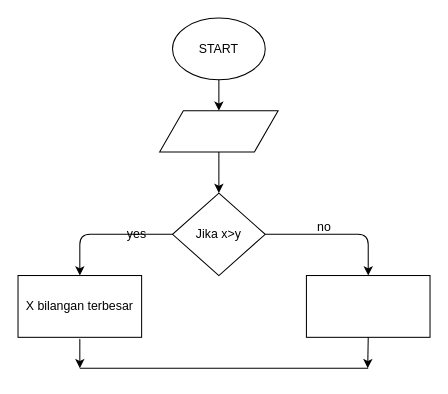
Image size: 448x394. Some labels were removed from this diagram. Here are the shapes that lost their labels. From the top down, the box of each, then its label:
(159, 110, 278, 152): input x dan y
(305, 274, 430, 337): Y bilangan terbear
